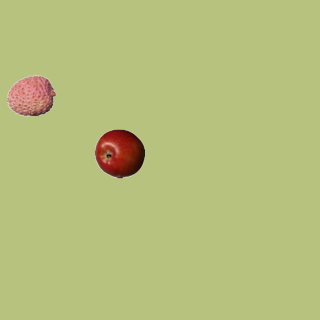Apple Braeburn: (94, 128, 144, 178)
Lychee: (6, 70, 56, 120)
